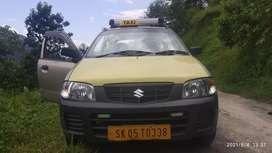SK05T0338: (106, 123, 171, 139)
